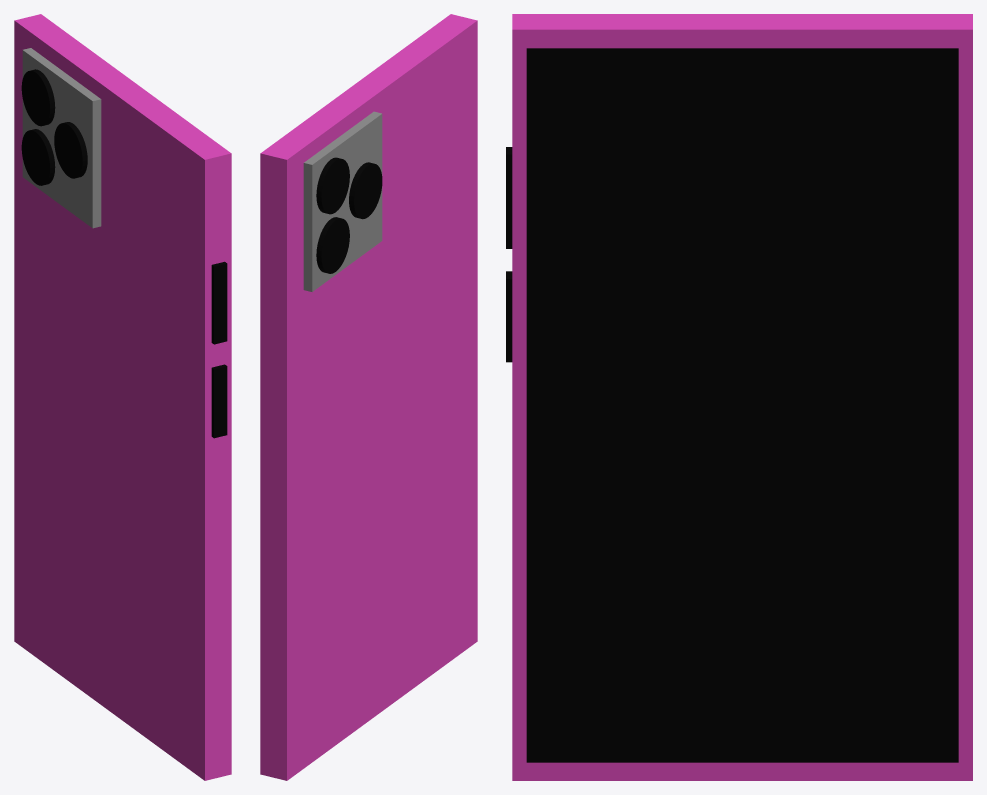
Rendered from celular.glb.
The picture shows the model from 3 angles, left to right: view 1: azimuth 30°, elevation 25°; view 2: azimuth 150°, elevation 25°; view 3: azimuth 270°, elevation 25°; orthographic projection. The views are drawn at different scales.
Parts seen in each view (by area): view 1: Cube.001, Cube.004, Cylinder.002, Cylinder.001, Cylinder, Cube.003, Cube.002; view 2: Cube.001, Cube.004, Cylinder.002, Cylinder.001, Cylinder; view 3: Plane, Cube.001.
Boxes of the visible parts, x1,y1,x2,y2 form: Cube.001: [14, 14, 231, 780]; Cube.004: [22, 48, 101, 228]; Cylinder.002: [21, 129, 55, 185]; Cylinder.001: [21, 69, 55, 126]; Cylinder: [54, 122, 87, 178]; Cube.003: [211, 261, 227, 344]; Cube.002: [211, 364, 227, 438]; Cube.001: [260, 14, 477, 780]; Cube.004: [303, 111, 382, 291]; Cylinder.002: [316, 217, 349, 273]; Cylinder.001: [316, 157, 349, 214]; Cylinder: [349, 162, 382, 219]; Plane: [526, 48, 958, 762]; Cube.001: [512, 14, 972, 780].
Bounding box in the file's own units: 0.3823 × 5.59 × 3.15.
